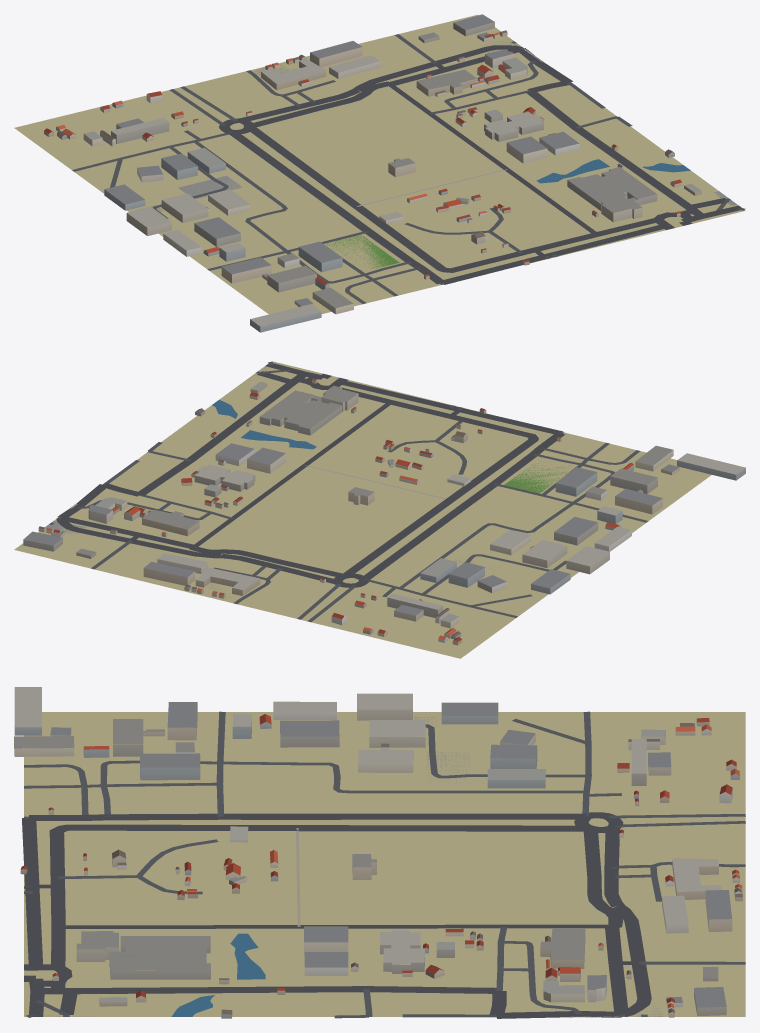
The picture shows the model from 3 angles, top to bottom: view 1: azimuth 30°, elevation 25°; view 2: azimuth 150°, elevation 25°; view 3: azimuth 270°, elevation 25°; orthographic projection. The views are drawn at different scales.
Visible parts, largest first — view 1: landuse, roads, buildings_roofs, buildings_walls, water; view 2: landuse, roads, buildings_roofs, buildings_walls, water; view 3: landuse, roads, buildings_roofs, buildings_walls, water.
Part boxes in pixels (x1=…): landuse: x1=14, y1=14, x2=745, y2=314; roads: x1=72, y1=34, x2=745, y2=303; buildings_roofs: x1=44, y1=14, x2=701, y2=326; buildings_walls: x1=44, y1=22, x2=701, y2=332; water: x1=536, y1=159, x2=690, y2=183; landuse: x1=14, y1=361, x2=711, y2=658; roads: x1=49, y1=362, x2=648, y2=622; buildings_roofs: x1=23, y1=378, x2=745, y2=642; buildings_walls: x1=23, y1=379, x2=745, y2=645; water: x1=212, y1=399, x2=316, y2=449; landuse: x1=24, y1=712, x2=745, y2=1016; roads: x1=22, y1=711, x2=745, y2=1018; buildings_roofs: x1=14, y1=687, x2=742, y2=1014; buildings_walls: x1=14, y1=708, x2=742, y2=1018; water: x1=171, y1=933, x2=265, y2=1016.
Size of the model in its own units: 530 by 9.59 by 507.
